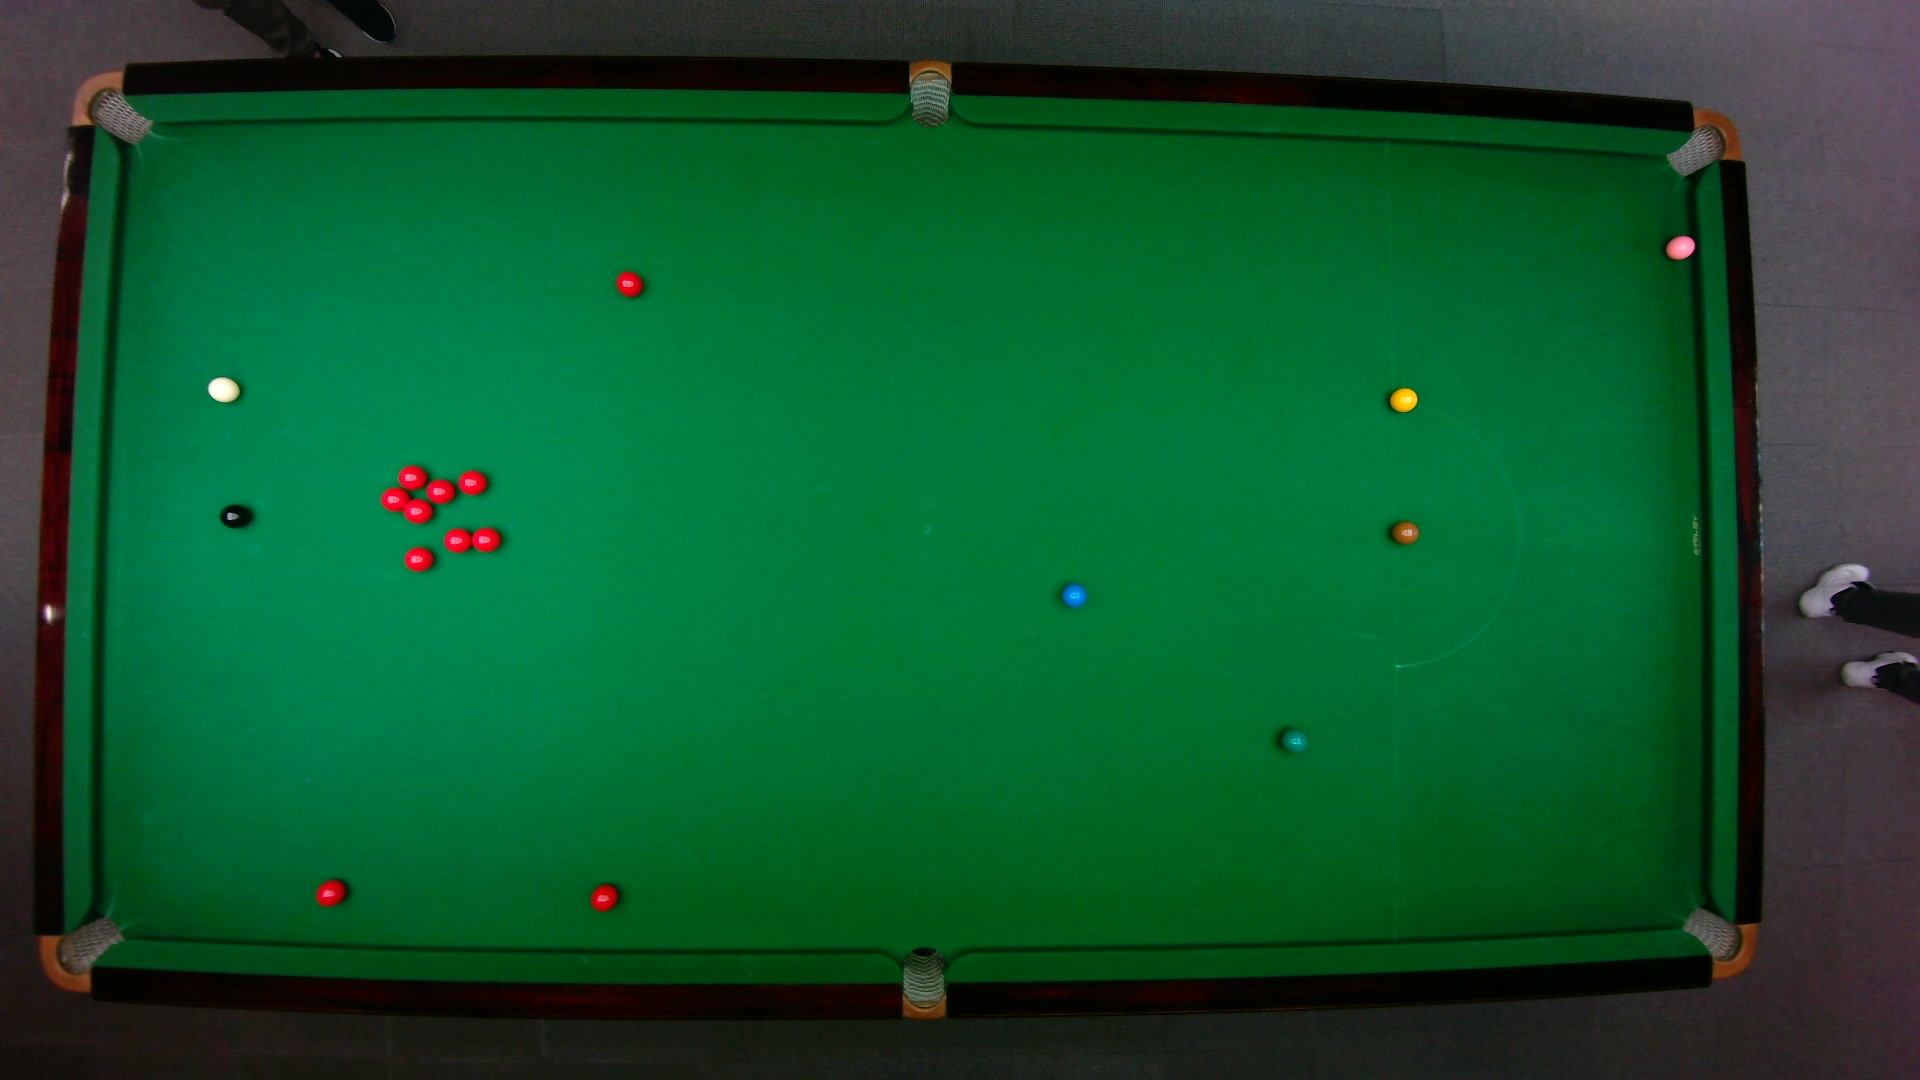bag: (37, 913, 125, 993), (69, 69, 152, 145), (1679, 905, 1756, 978), (1663, 107, 1741, 177), (901, 945, 944, 1021), (909, 57, 949, 128)
black: (218, 502, 251, 529)
blue: (1059, 582, 1087, 608)
brown: (1389, 520, 1419, 545)
green: (1278, 727, 1308, 753)
pink: (1663, 232, 1697, 260)
red: (314, 878, 347, 907), (400, 496, 434, 524), (442, 525, 473, 554), (396, 463, 429, 491), (589, 882, 618, 913), (378, 484, 410, 512), (402, 545, 434, 572), (469, 525, 501, 553), (422, 477, 456, 502), (456, 468, 488, 495), (615, 269, 644, 297)
white: (204, 375, 240, 402)
yellow: (1389, 385, 1418, 411)
zone: (1391, 402, 1520, 669)
